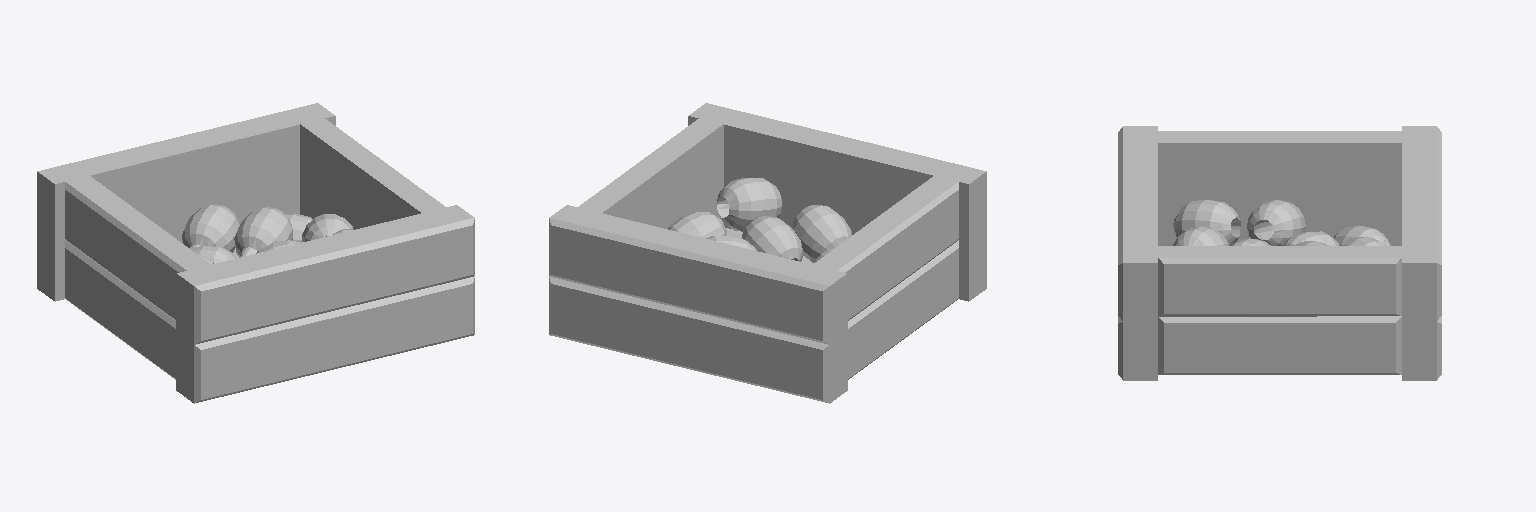
The model's file is crate_olives.obj.
The picture shows the model from 3 angles: view 1: azimuth 30°, elevation 25°; view 2: azimuth 150°, elevation 25°; view 3: azimuth 270°, elevation 25°; orthographic projection.
Visible parts, largest first — view 1: crate, 285_Olive.004, 285_Olive.003, 285_Olive.009; view 2: crate, 285_Olive, 285_Olive.008, 285_Olive.006, 285_Olive.009; view 3: crate, 285_Olive.010, 285_Olive.001, 285_Olive.008, 285_Olive.007.
Boxes of the visible parts, <box> form: crate: <box>37,103,474,403</box>; 285_Olive.004: <box>182,204,239,252</box>; 285_Olive.003: <box>234,207,292,257</box>; 285_Olive.009: <box>302,214,352,241</box>; crate: <box>549,103,986,403</box>; 285_Olive: <box>717,178,781,230</box>; 285_Olive.008: <box>792,205,851,262</box>; 285_Olive.006: <box>742,216,802,261</box>; 285_Olive.009: <box>668,212,726,238</box>; crate: <box>1118,126,1441,380</box>; 285_Olive.010: <box>1247,200,1305,245</box>; 285_Olive.001: <box>1173,200,1240,245</box>; 285_Olive.008: <box>1173,226,1228,245</box>; 285_Olive.007: <box>1334,226,1390,245</box>.
Size of the model in its own units: 2 by 0.8371 by 2.